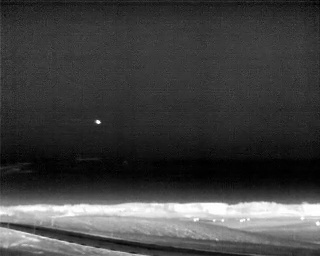BIRD: (94, 117, 104, 128)
